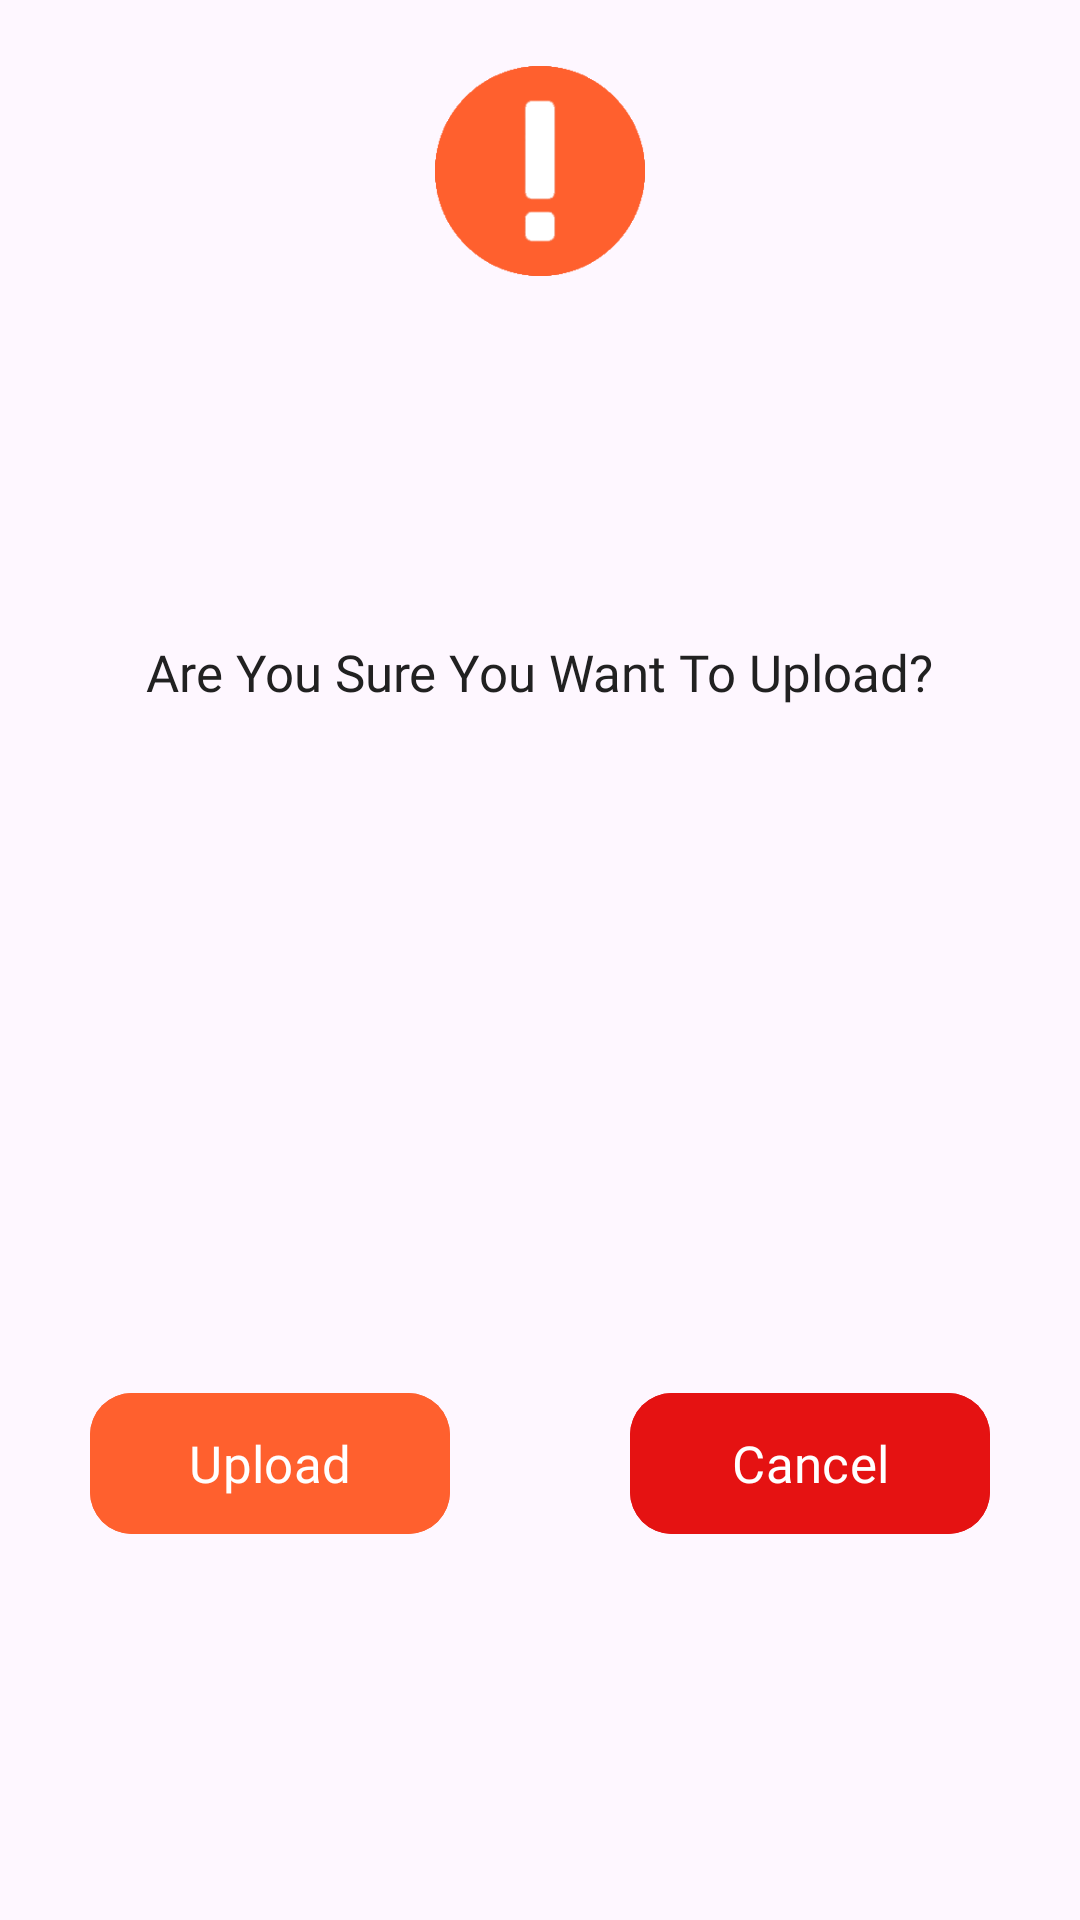

Screen size 1080 × 1920. Icon name, then its box in pixels as (x1, y1, x2, y2):
warning: (435, 66, 645, 276)
